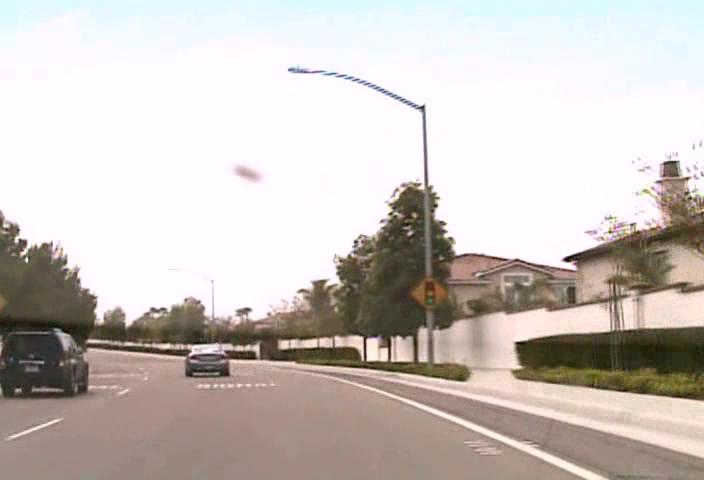signalAhead: (410, 274, 448, 312)
